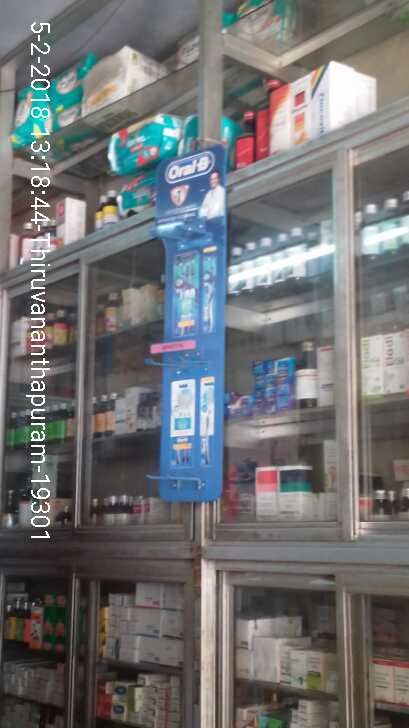pampers: (102, 113, 175, 163)
